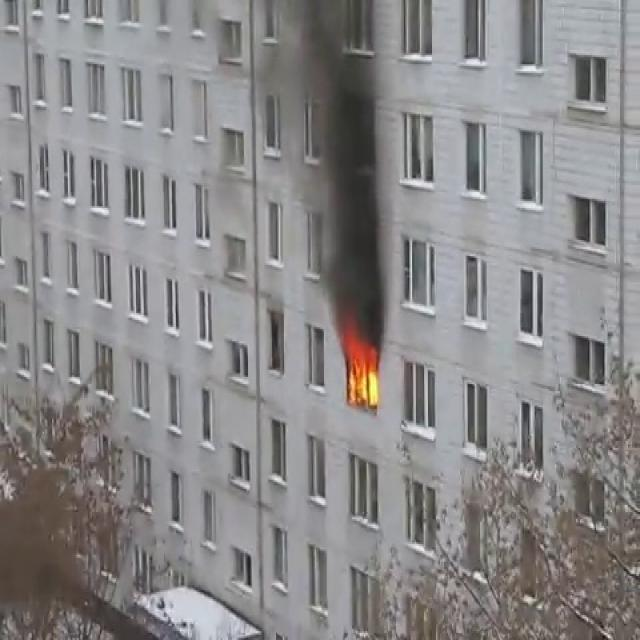Fire: (341, 324, 384, 412)
Smoke: (263, 0, 405, 331)
